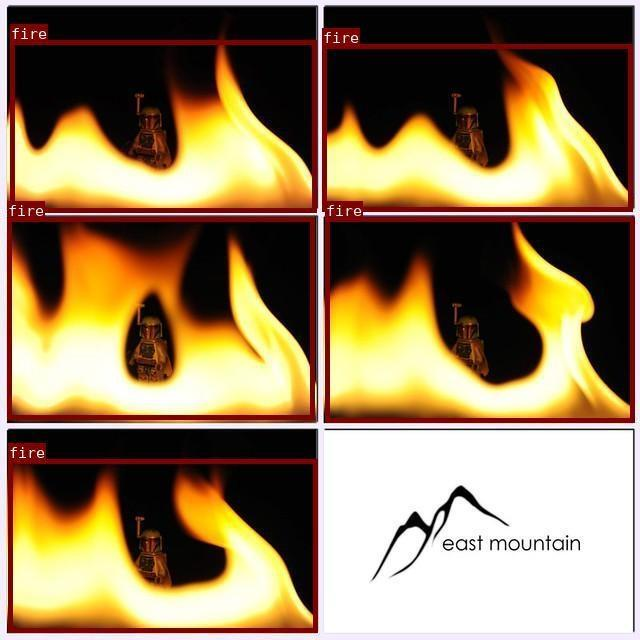fire: (325, 217, 633, 421), (7, 217, 313, 419), (8, 458, 316, 631), (10, 39, 315, 211), (322, 44, 632, 210)
